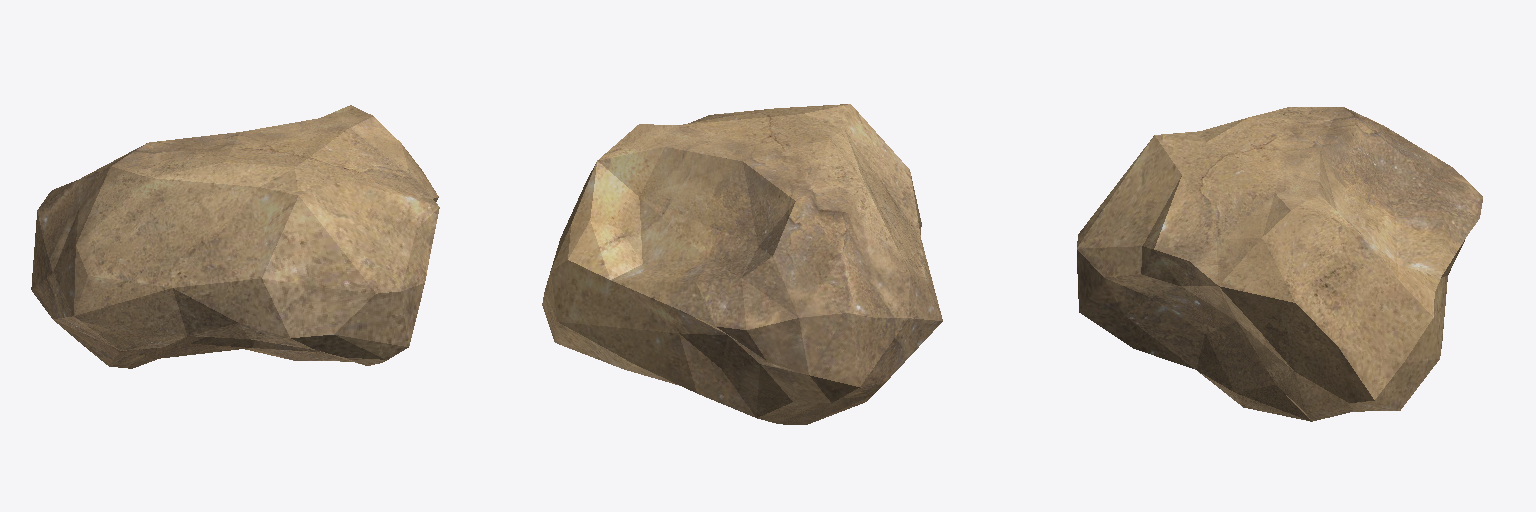
3 renders of one model, left to right at view 1: azimuth 30°, elevation 25°; view 2: azimuth 150°, elevation 25°; view 3: azimuth 270°, elevation 25°, orthographic.
Visible parts, largest first — view 1: rock_low_poly_02_rock-sculpt-brushes-dyntopo.003; view 2: rock_low_poly_02_rock-sculpt-brushes-dyntopo.003; view 3: rock_low_poly_02_rock-sculpt-brushes-dyntopo.003.
Part boxes in pixels (bbox=[...]): rock_low_poly_02_rock-sculpt-brushes-dyntopo.003: bbox=[31, 105, 439, 368]; rock_low_poly_02_rock-sculpt-brushes-dyntopo.003: bbox=[542, 104, 942, 424]; rock_low_poly_02_rock-sculpt-brushes-dyntopo.003: bbox=[1077, 107, 1482, 421].
Size of the model in its own units: 1.91 by 1.19 by 1.89.
1 materials, 1 textured.